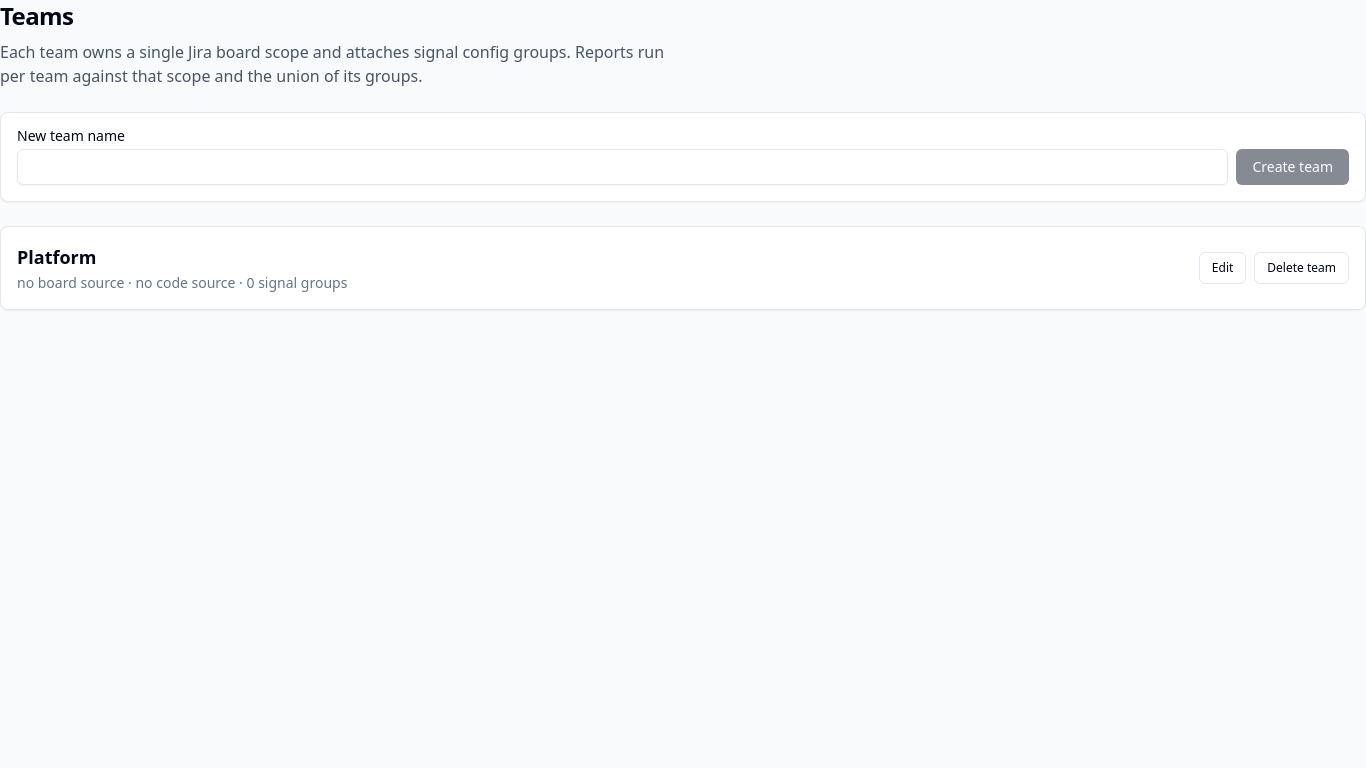
Test: TeamsPage — TeamCard delete › requires confirmation before deleting and surfaces delete errors
This screenshot has width=1366, height=768.
Expected: the heading "Platform" is shown, [17, 245, 96, 269]
What coordinates should you click on to do the following:
click the button with aria-label "Delete Platform"
I would click on:
 (1302, 268)
Its box is [1254, 252, 1349, 284].
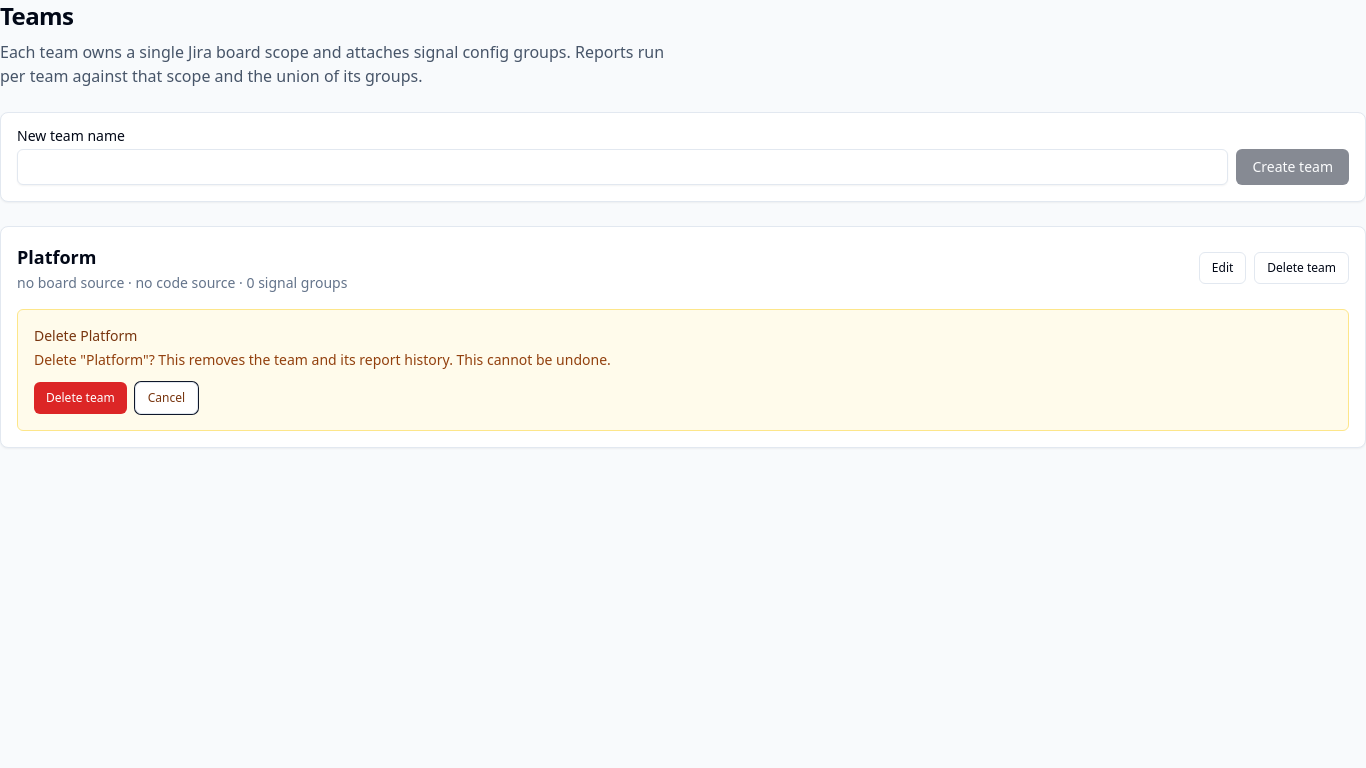
Expected: the dialog is shown, [17, 309, 1349, 431]
Note: Confirm the deletion (the dialog's confirm button is named "Delete team").
What coordinates should you click on to do the following:
click the button "Delete team" below "Delete Platform"
I would click on:
 (80, 398)
Its box is [34, 382, 127, 414].
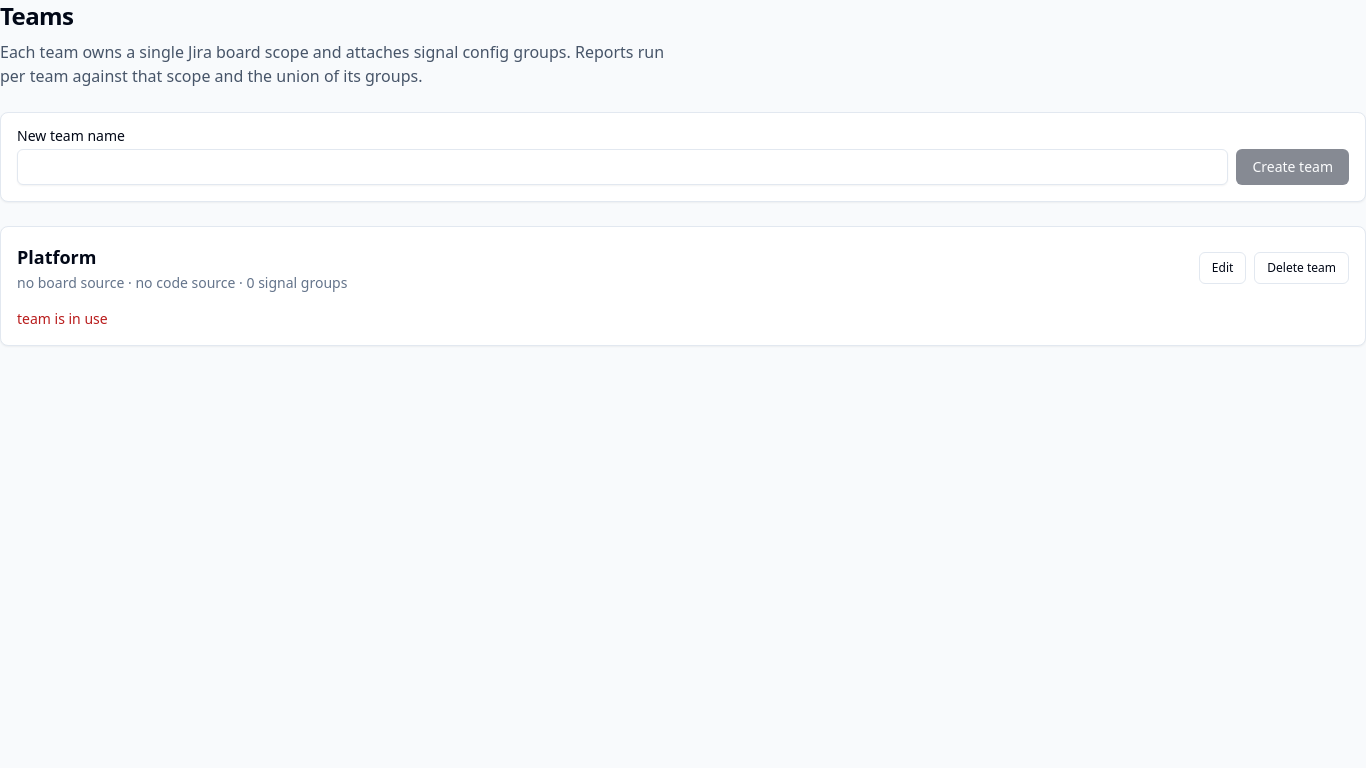
Expected: the message reads "team is in use", [17, 309, 108, 328]
